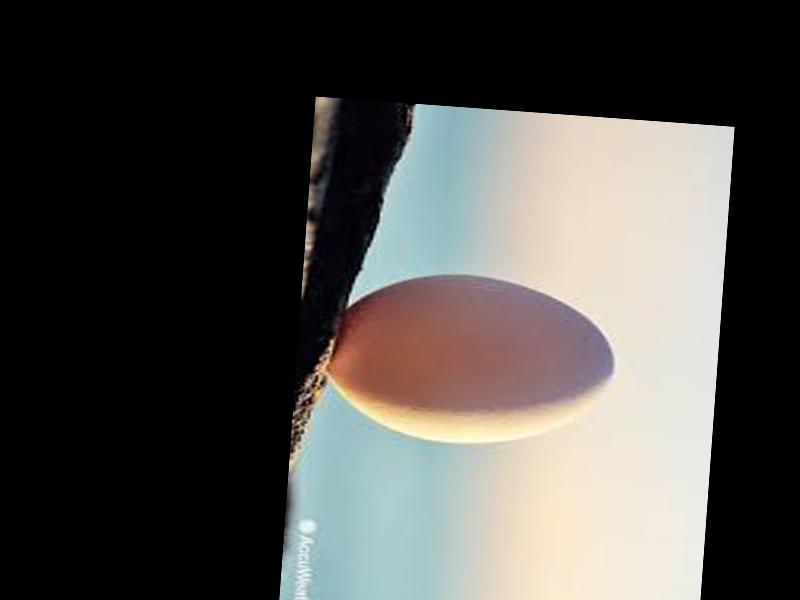Eggs: (326, 265, 622, 455)
